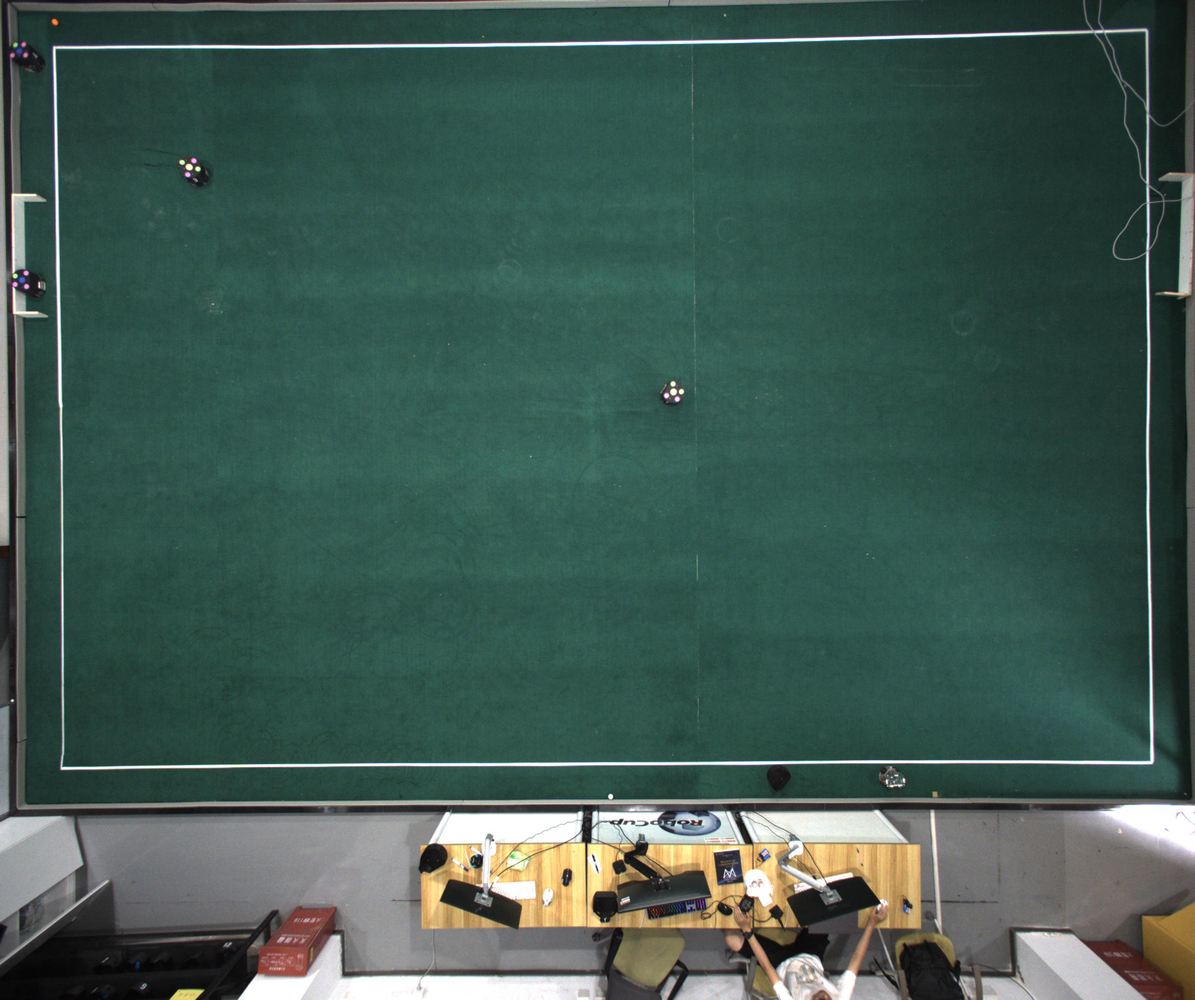ball: (51, 18, 59, 27)
blue_bot: (11, 269, 32, 291), (9, 41, 29, 62)
yellow_bot: (663, 380, 685, 403), (179, 156, 201, 179)
